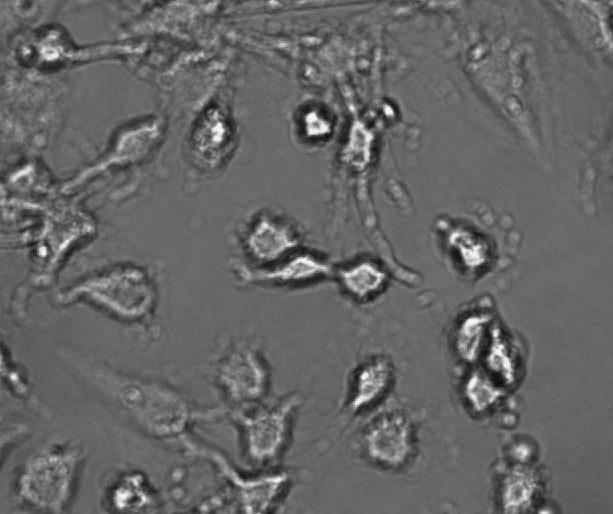Dead: (430, 211, 500, 283), (182, 95, 242, 178), (337, 94, 400, 173), (332, 347, 399, 417), (16, 17, 87, 80), (333, 253, 395, 306), (455, 363, 507, 425), (483, 325, 530, 393), (289, 92, 341, 150), (450, 299, 493, 367), (100, 467, 164, 512)
